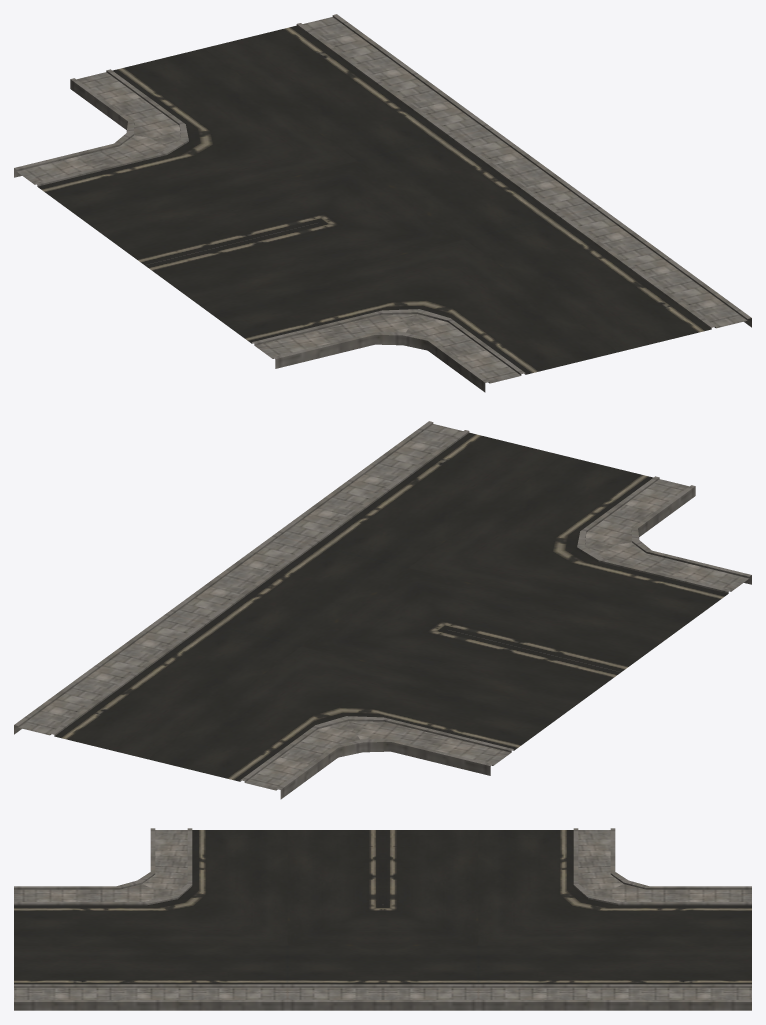
File: RoadIntersectionC.obj
3 renders of one model, top to bottom at view 1: azimuth 30°, elevation 25°; view 2: azimuth 150°, elevation 25°; view 3: azimuth 270°, elevation 25°, orthographic. The views are drawn at different scales.
Visible parts, largest first — view 1: 7_Road-Intersection-C; view 2: 7_Road-Intersection-C; view 3: 7_Road-Intersection-C.
Part boxes in pixels (x1,y1,x2,y2): 7_Road-Intersection-C: (14,14,751,392); 7_Road-Intersection-C: (14,421,751,799); 7_Road-Intersection-C: (14,828,751,1010).
Bounding box in the file's own units: 0.9294 × 0.0219 × 1.67.
Materials: 1 (1 with a texture image).
